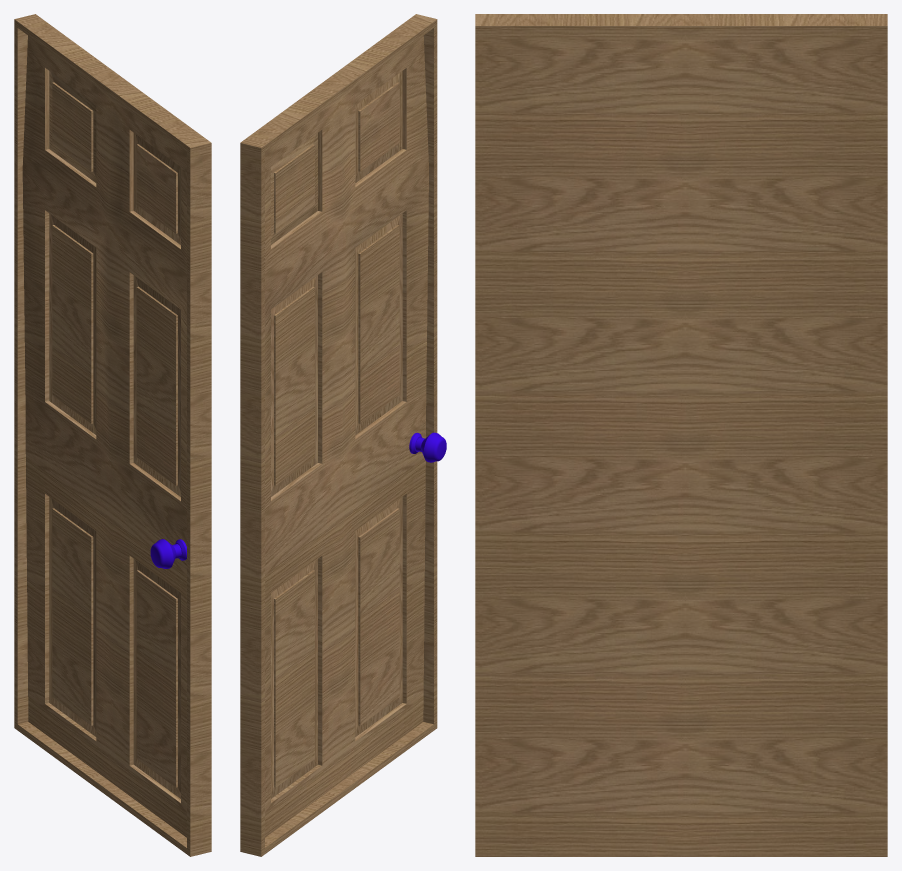
File: Door & Handle.FBX
3 views of the same model, side by side, from view 1: azimuth 30°, elevation 25°; view 2: azimuth 150°, elevation 25°; view 3: azimuth 270°, elevation 25° (orthographic). The views are drawn at different scales.
Parts seen in each view (by area): view 1: Box001, Cylinder001; view 2: Box001, Cylinder001; view 3: Box001.
Boxes of the visible parts, x1,y1,x2,y2 form: Box001: (14, 14, 211, 856); Cylinder001: (150, 539, 186, 568); Box001: (240, 14, 437, 856); Cylinder001: (409, 432, 446, 462); Box001: (475, 14, 887, 856).
Size of the model in its own units: 4.83 by 80 by 36.
Materials: 2 (1 with a texture image).
